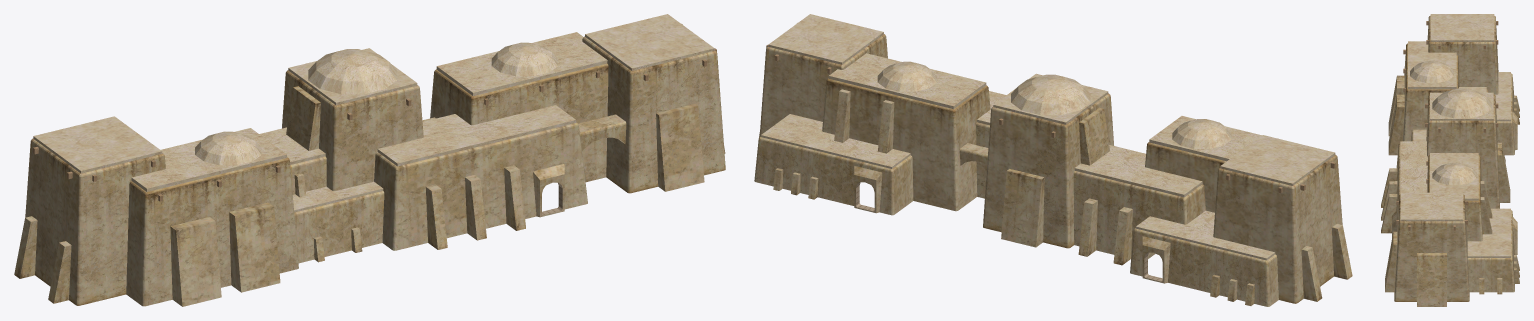
File: thm_tato_block_bldg_64x16_s02_r0_exterior_mesh_l0.fbx
3 renders of one model, left to right at view 1: azimuth 30°, elevation 25°; view 2: azimuth 150°, elevation 25°; view 3: azimuth 270°, elevation 25°, orthographic. The views are drawn at different scales.
Parts seen in each view (by area): view 1: mesh_node; view 2: mesh_node; view 3: mesh_node.
Part boxes in pixels (x1,y1,x2,y2): mesh_node: [14, 14, 725, 306]; mesh_node: [754, 14, 1352, 306]; mesh_node: [1381, 14, 1519, 306].
Size of the model in its own units: 67.12 by 15.34 by 18.41.
